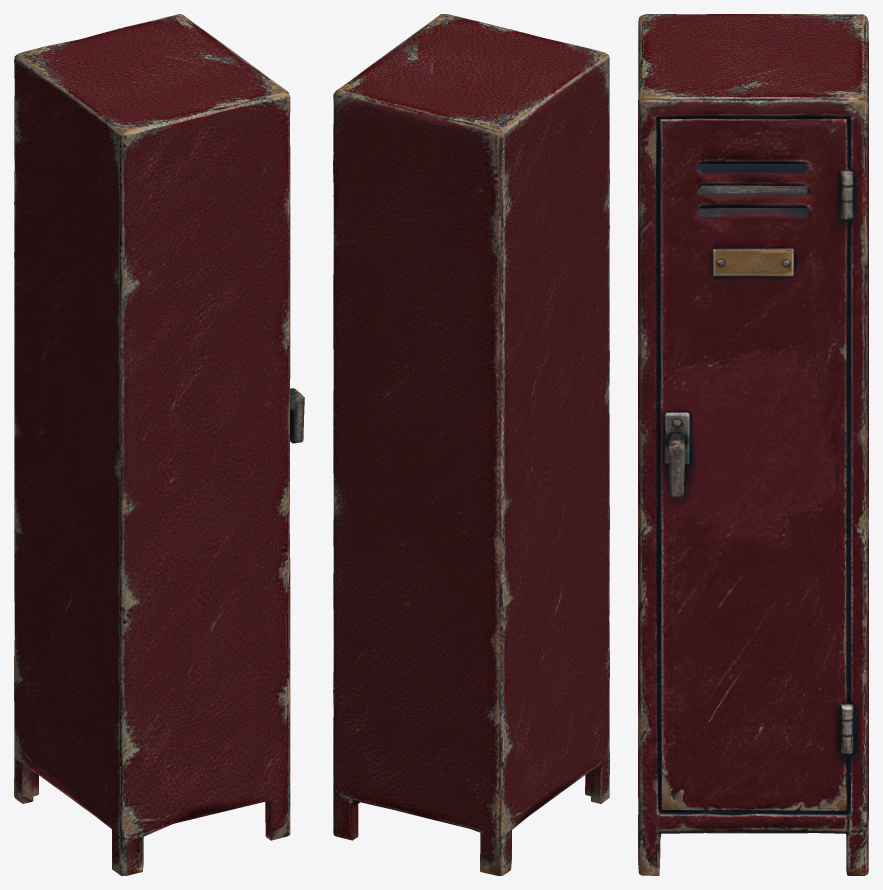
Rendered from SchoolLocker4.fbx.
3 renders of one model, left to right at view 1: azimuth 30°, elevation 25°; view 2: azimuth 150°, elevation 25°; view 3: azimuth 270°, elevation 25°, orthographic. The views are drawn at different scales.
Visible parts, largest first — view 1: tripo_node_485368f7-156c-4c41-89ad-c0008126fce6; view 2: tripo_node_485368f7-156c-4c41-89ad-c0008126fce6; view 3: tripo_node_485368f7-156c-4c41-89ad-c0008126fce6.
Boxes of the visible parts, x1=… form: tripo_node_485368f7-156c-4c41-89ad-c0008126fce6: x1=14, y1=14, x2=304, y2=875; tripo_node_485368f7-156c-4c41-89ad-c0008126fce6: x1=333, y1=14, x2=609, y2=875; tripo_node_485368f7-156c-4c41-89ad-c0008126fce6: x1=638, y1=14, x2=868, y2=875.
Size of the model in its own units: 27.85 by 100 by 26.91.
1 material, 1 textured.
